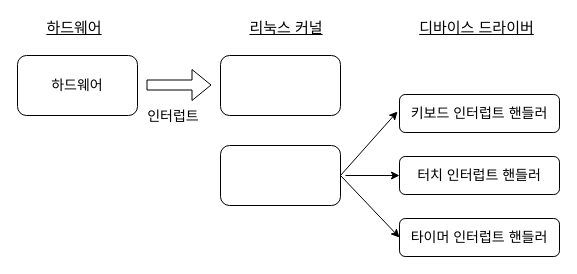
The diagram is 577 pixels wide and 274 high, and some of its shapes have lost their labels. The shapes that lost their labels are listed below. From the top down, each one's centre as x and y in pixels, then its label:
(280,85): 익셉션 벡터
(280,175): 리눅스 커널 인터럽트 함수
